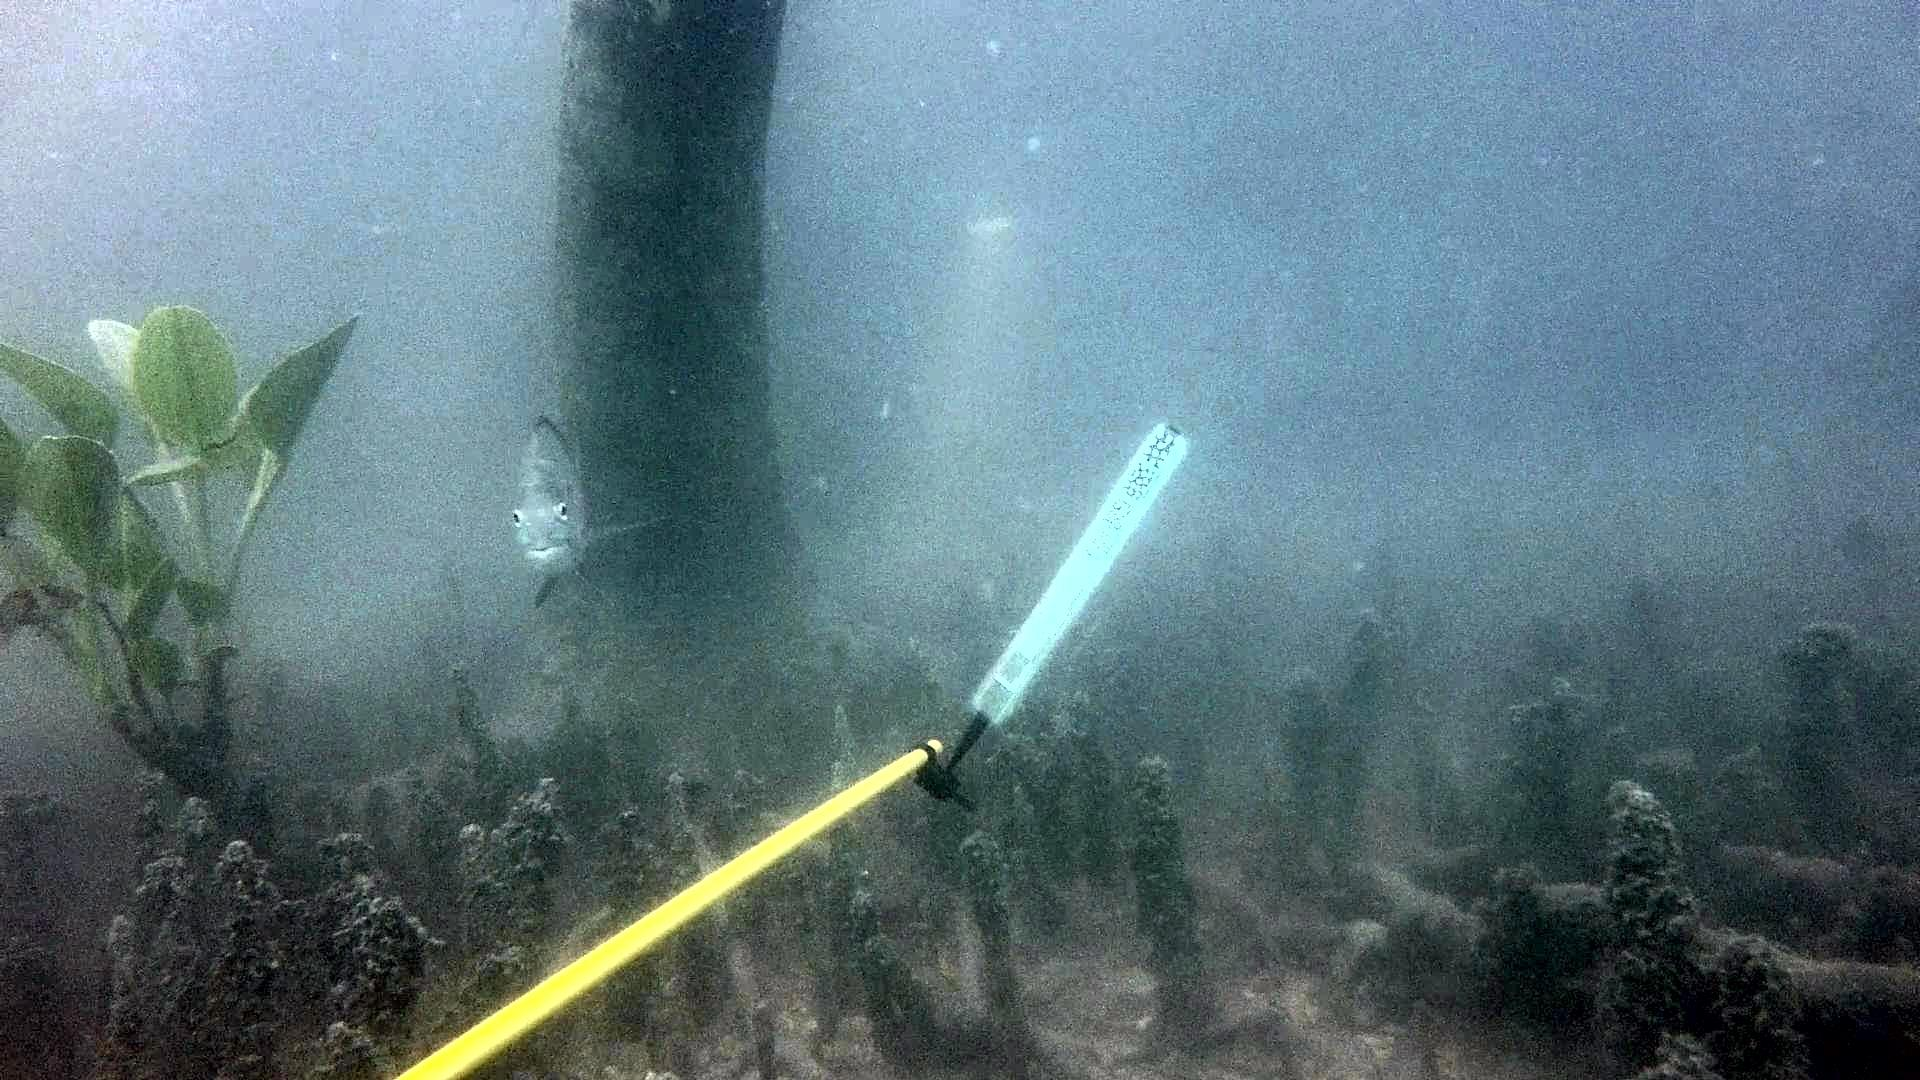acanthopagrus palmaris: (495, 402, 643, 620)
